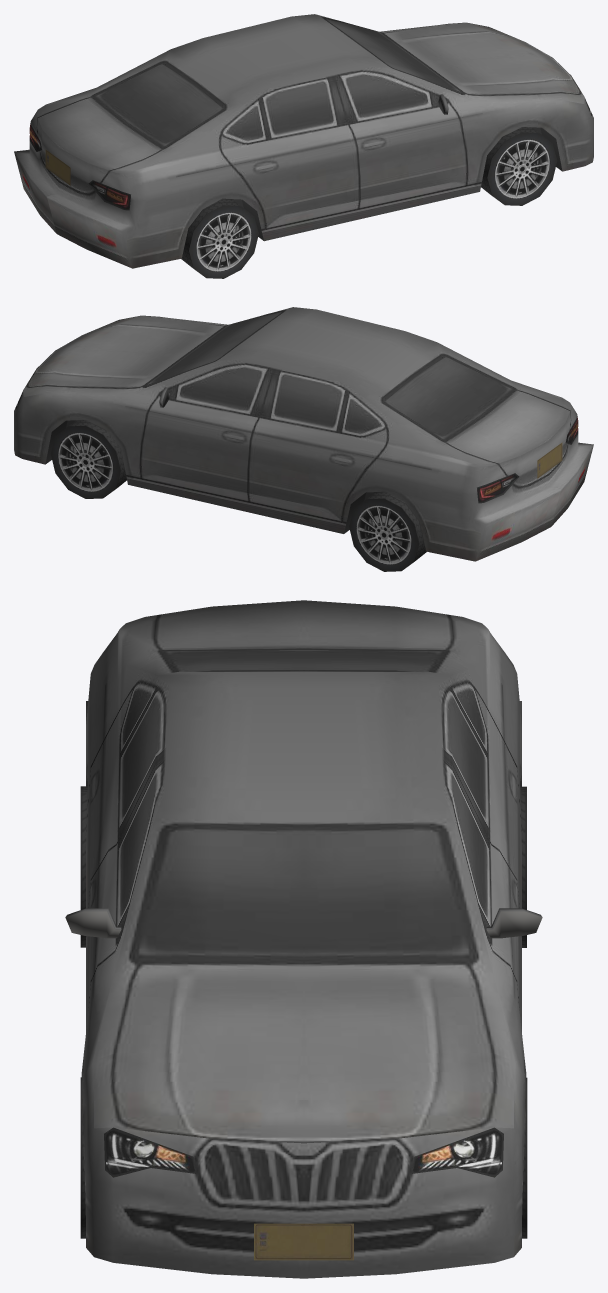
The model's file is sf_luxury_02.glb.
The picture shows the model from 3 angles, top to bottom: view 1: azimuth 30°, elevation 25°; view 2: azimuth 150°, elevation 25°; view 3: azimuth 270°, elevation 25°; orthographic projection. The views are drawn at different scales.
Parts seen in each view (by area): view 1: Traffic_Luxury_02_Body, Traffic_Luxury_02_Wheel_Back_R_Traffic_Vehicle_Wheels_01_5_0, Traffic_Luxury_02_Wheel_Front_R_Traffic_Vehicle_Wheels_01_5_, Traffic_Luxury_02_Light_Break; view 2: Traffic_Luxury_02_Body, Traffic_Luxury_02_Wheel_Back_L_Traffic_Vehicle_Wheels_01_5_0, Traffic_Luxury_02_Wheel_Front_L_Traffic_Vehicle_Wheels_01_5_, Traffic_Luxury_02_Light_Break; view 3: Traffic_Luxury_02_Body, Traffic_Luxury_02_Light, Traffic_Luxury_02_Wheel_Back_R_Traffic_Vehicle_Wheels_01_5_0.
Boxes of the visible parts, x1,y1,x2,y2 form: Traffic_Luxury_02_Body: [14, 14, 593, 268]; Traffic_Luxury_02_Wheel_Back_R_Traffic_Vehicle_Wheels_01_5_0: [181, 198, 258, 278]; Traffic_Luxury_02_Wheel_Front_R_Traffic_Vehicle_Wheels_01_5_: [481, 127, 557, 205]; Traffic_Luxury_02_Light_Break: [29, 121, 130, 210]; Traffic_Luxury_02_Body: [14, 307, 593, 561]; Traffic_Luxury_02_Wheel_Back_L_Traffic_Vehicle_Wheels_01_5_0: [349, 491, 426, 571]; Traffic_Luxury_02_Wheel_Front_L_Traffic_Vehicle_Wheels_01_5_: [50, 420, 126, 498]; Traffic_Luxury_02_Light_Break: [477, 414, 578, 503]; Traffic_Luxury_02_Body: [65, 600, 542, 1278]; Traffic_Luxury_02_Light: [104, 1127, 503, 1177]; Traffic_Luxury_02_Wheel_Back_R_Traffic_Vehicle_Wheels_01_5_0: [80, 786, 87, 947].
Size of the model in its own units: 4.7 by 1.39 by 1.88.
Materials: 3 (3 with a texture image).
